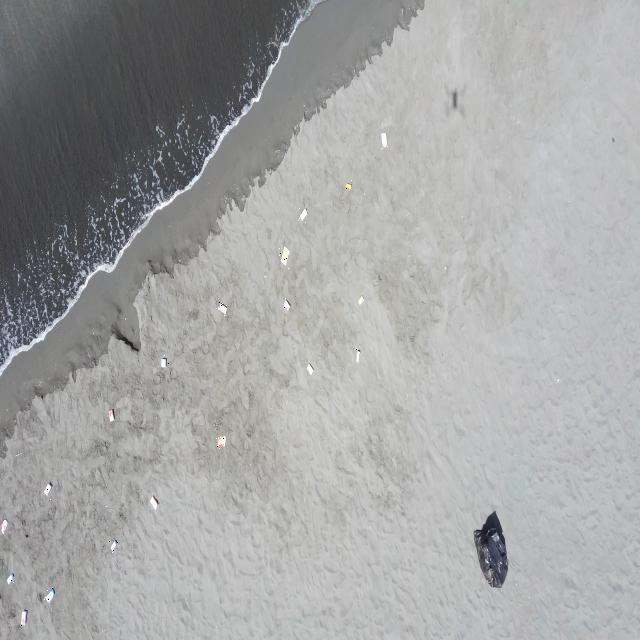retort-pouch: (279, 246, 289, 270), (18, 606, 27, 628), (380, 130, 389, 150), (44, 588, 53, 606), (109, 536, 118, 554), (43, 482, 52, 500), (148, 494, 158, 510), (216, 434, 225, 450), (298, 208, 307, 224), (5, 570, 14, 584), (355, 348, 362, 366), (0, 519, 8, 534), (218, 302, 226, 317), (108, 408, 115, 423), (162, 355, 169, 370), (308, 362, 315, 375), (283, 297, 290, 309), (346, 179, 352, 192)
